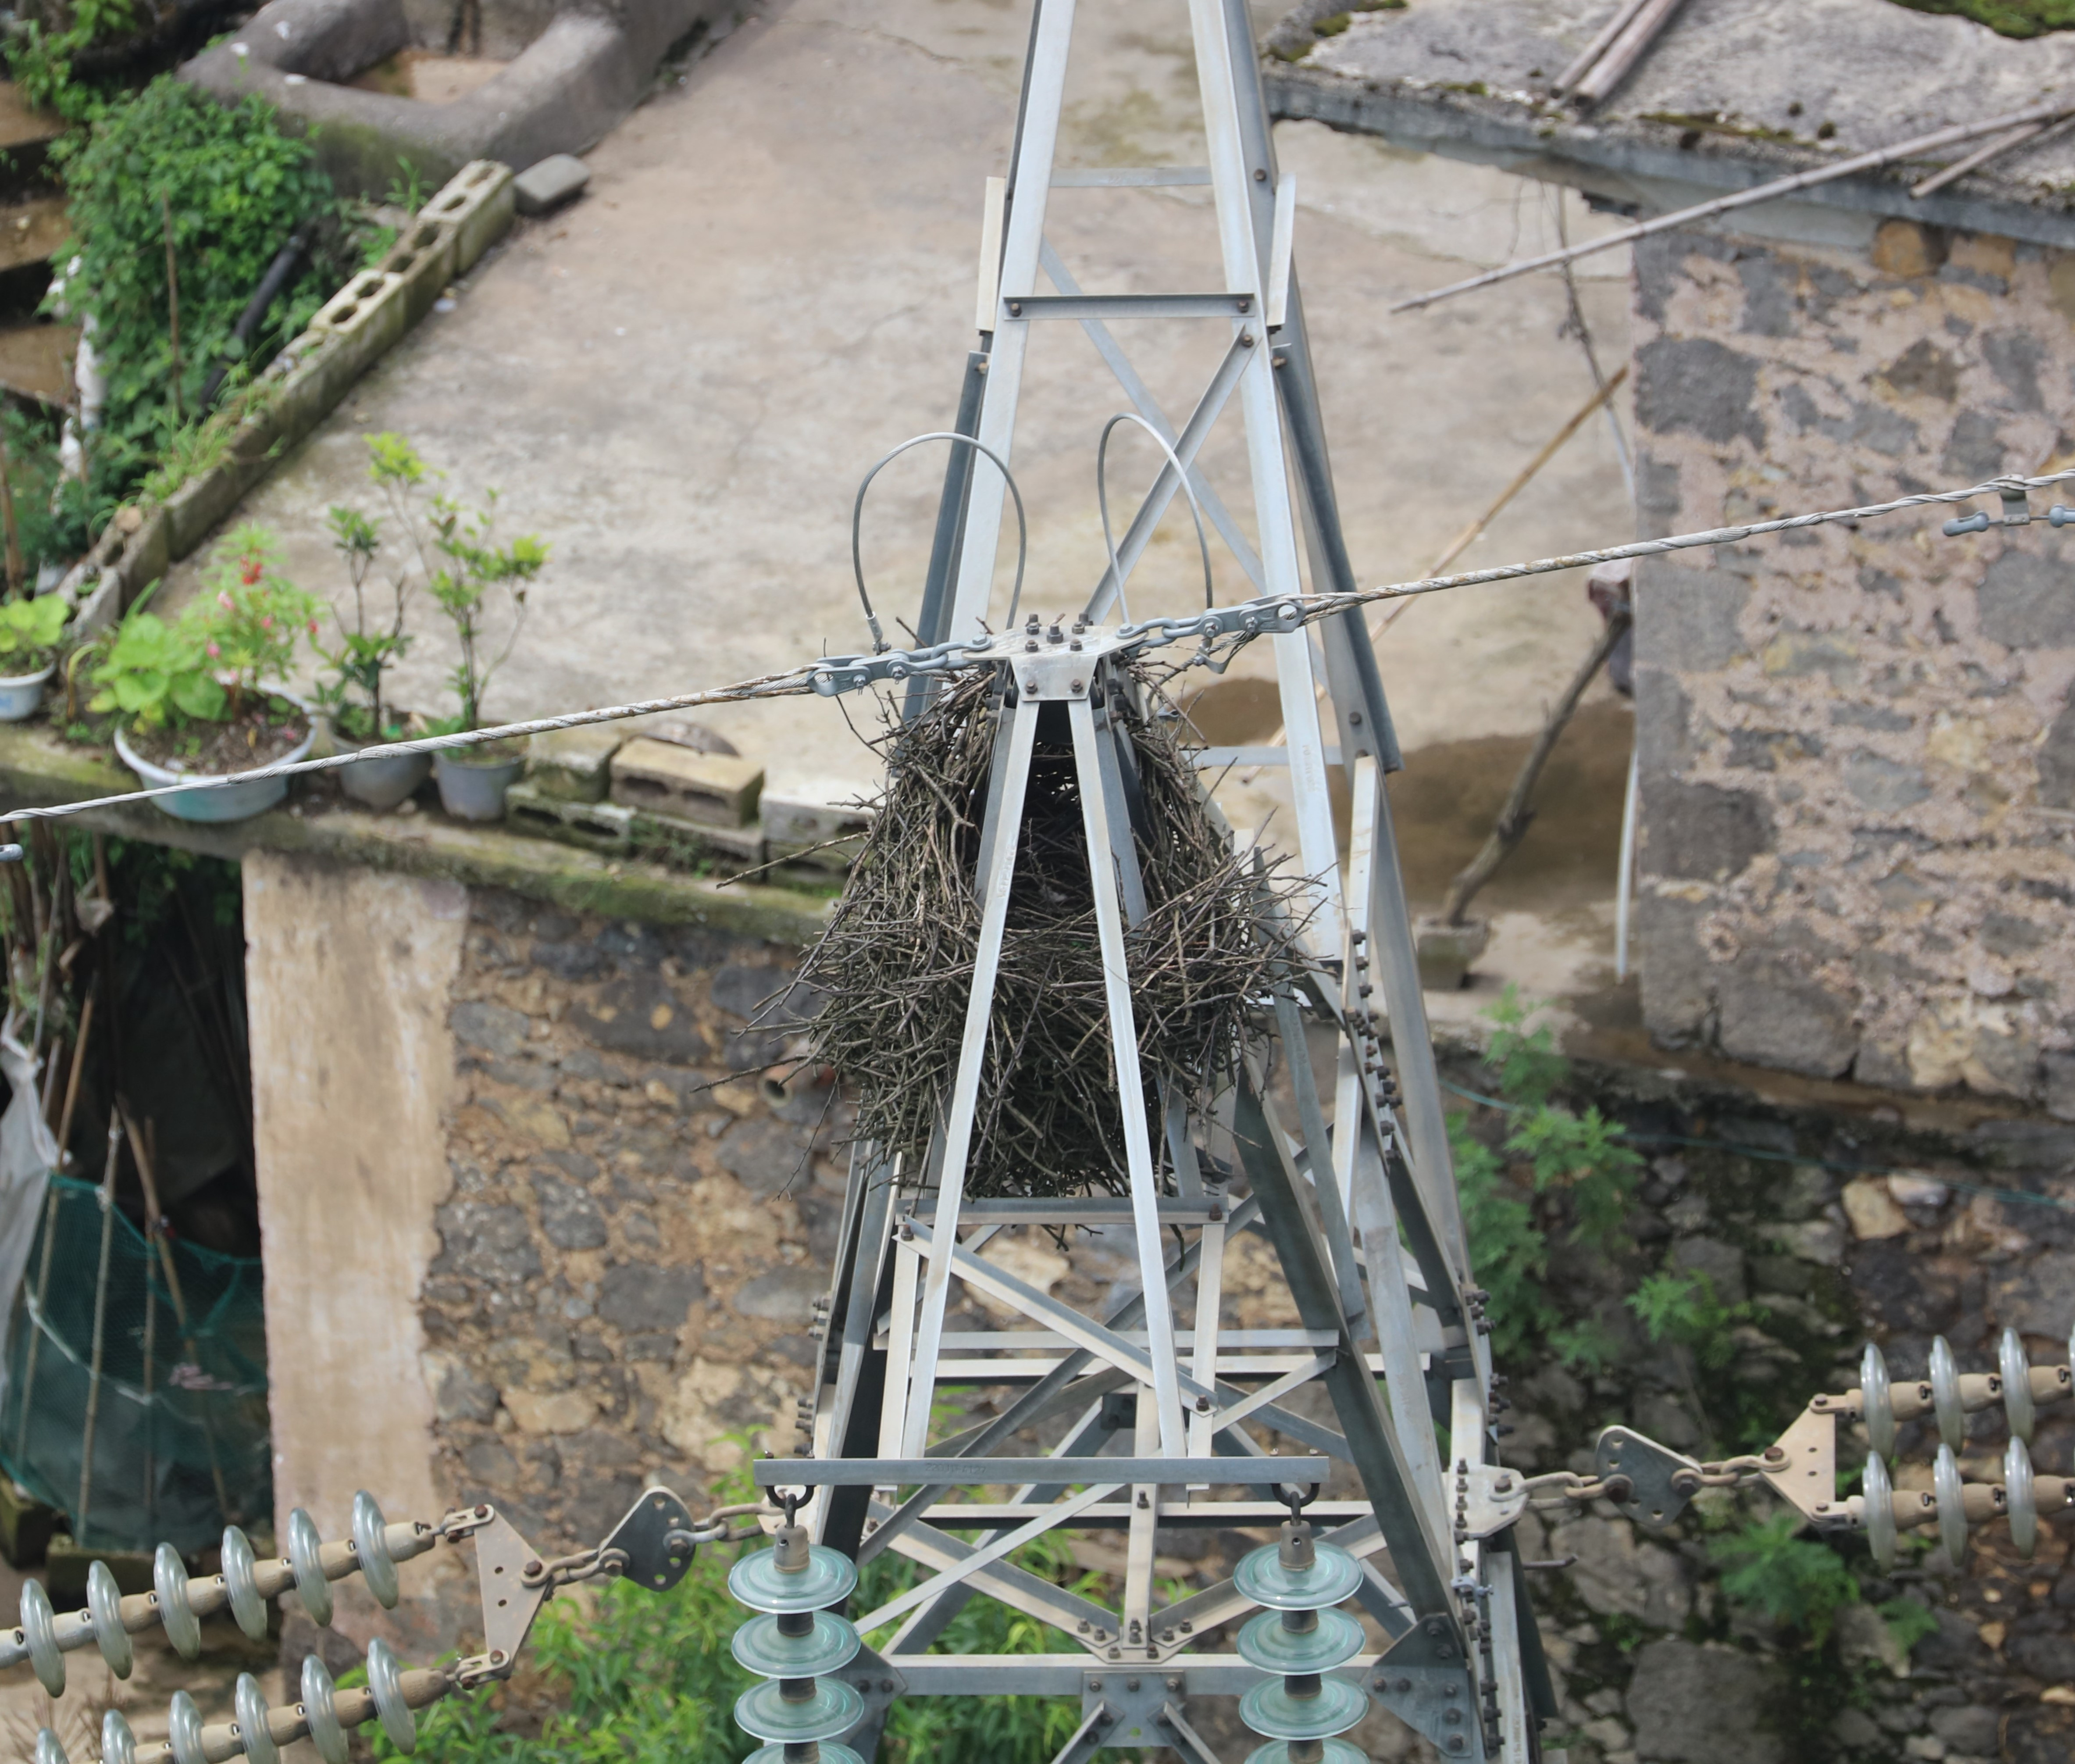niaowo: (810, 635, 1321, 1223)
